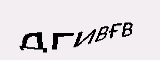В: (94, 25, 109, 46), (120, 21, 133, 39)
Г: (50, 31, 77, 52)
Д: (16, 31, 47, 53)
И: (73, 28, 96, 49)
Ғ: (108, 21, 121, 40)
